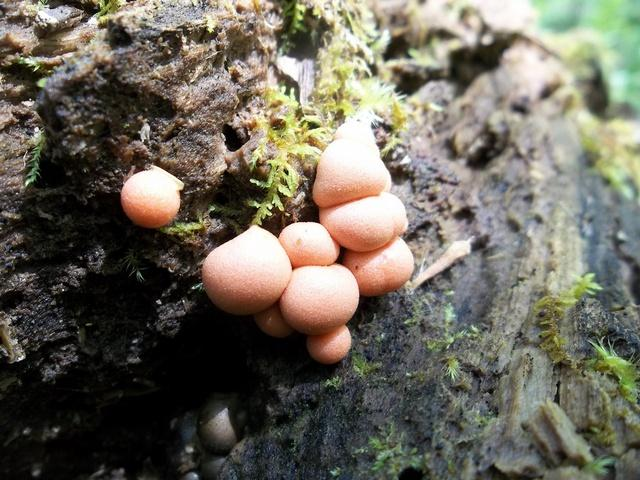Non-edible Mushroom: (200, 118, 415, 364), (200, 224, 292, 315), (278, 262, 359, 334), (311, 136, 391, 207), (318, 191, 408, 252), (341, 235, 414, 296), (119, 166, 183, 228), (277, 220, 339, 266), (305, 324, 352, 364)
